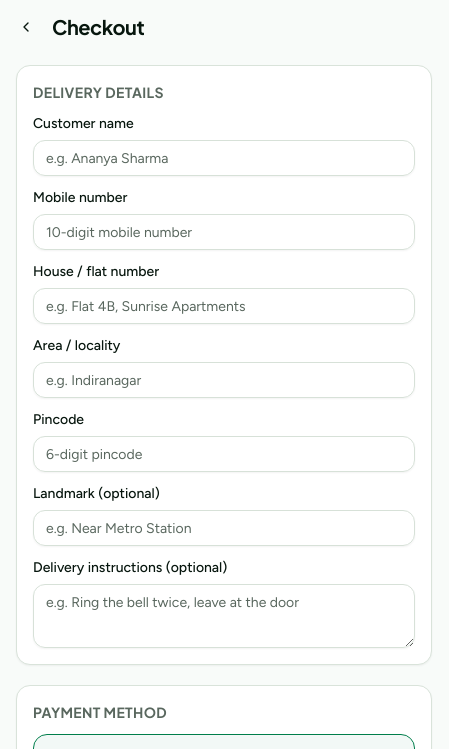
Scenario: CheckoutPage › rejects a malformed mobile number and pincode
In the field with test id "checkout_name_input": (224, 158) [33,140,415,176], type "Ananya Sharma"
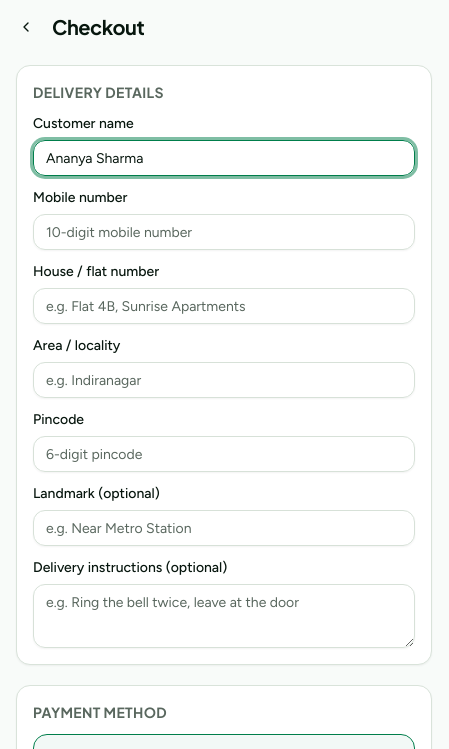
In the field with test id "checkout_mobile_input": (224, 232) [33,214,415,250], type "12345"
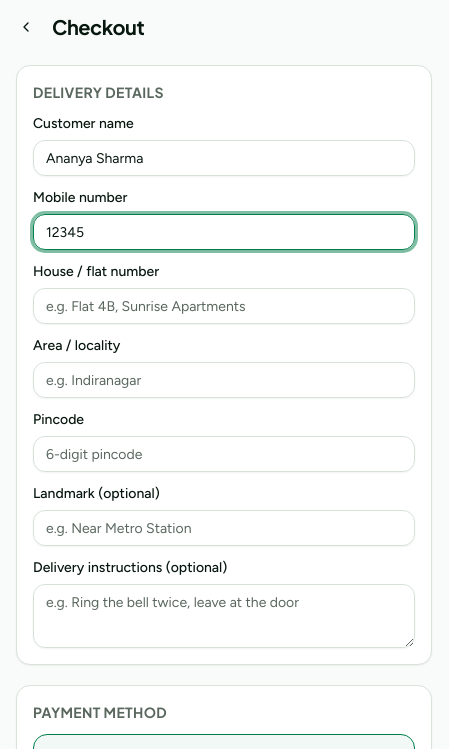
In the field with test id "checkout_house_input": (224, 306) [33,288,415,324], type "Flat 4B"
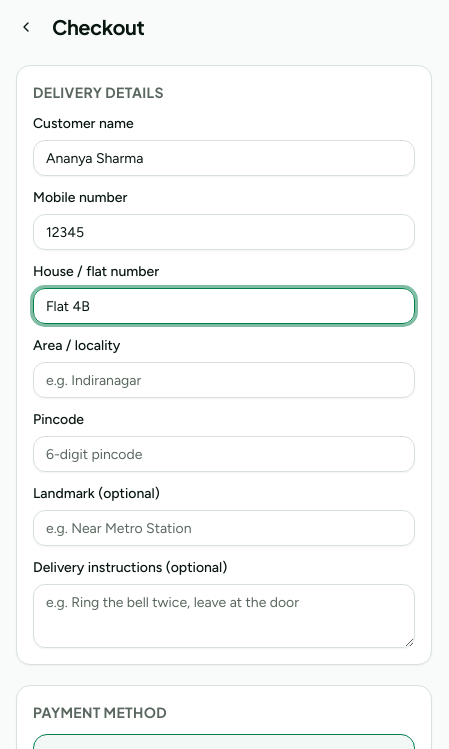
In the field with test id "checkout_area_input": (224, 380) [33,362,415,398], type "Indiranagar"
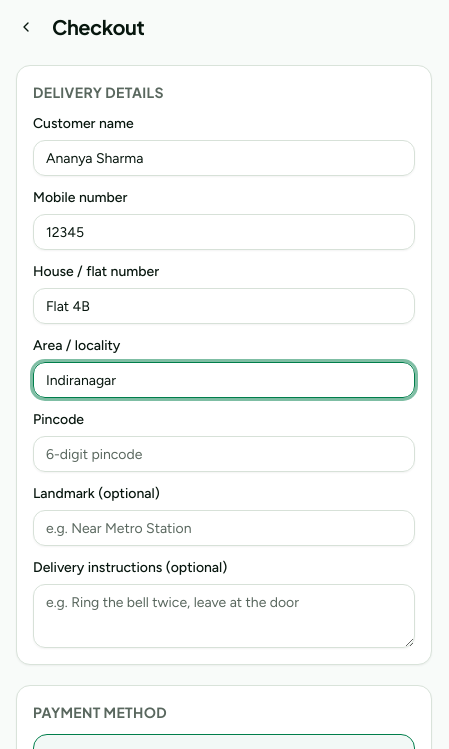
In the field with test id "checkout_pincode_input": (224, 454) [33,436,415,472], type "123"
(page scrolled)
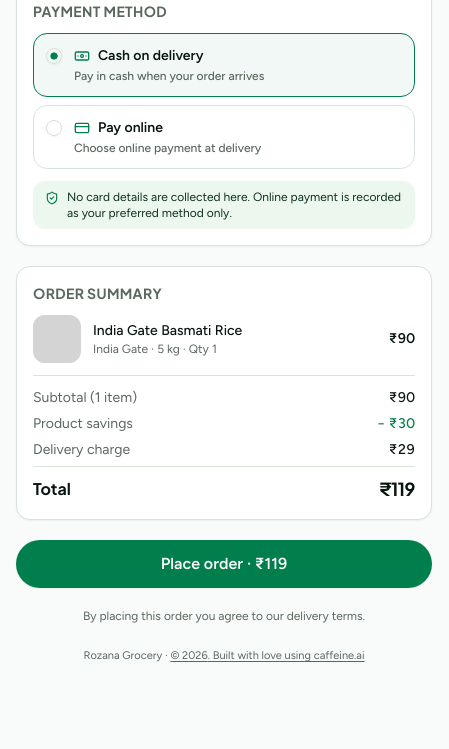
Click the button with test id "checkout_place_order_button": (224, 564) [16,540,432,588]
(page scrolled)
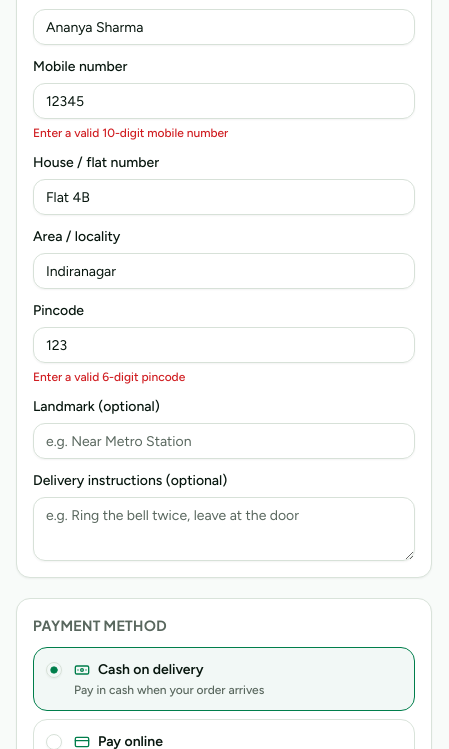
Result: the text "Enter a valid 10-digit mobile number" is shown at [33,126,228,140]
Result: the text "Enter a valid 6-digit pincode" is shown at [33,370,185,384]
